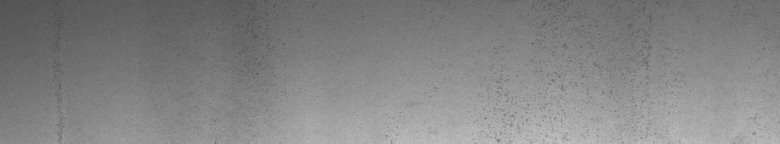ib: (473, 4, 652, 136)
